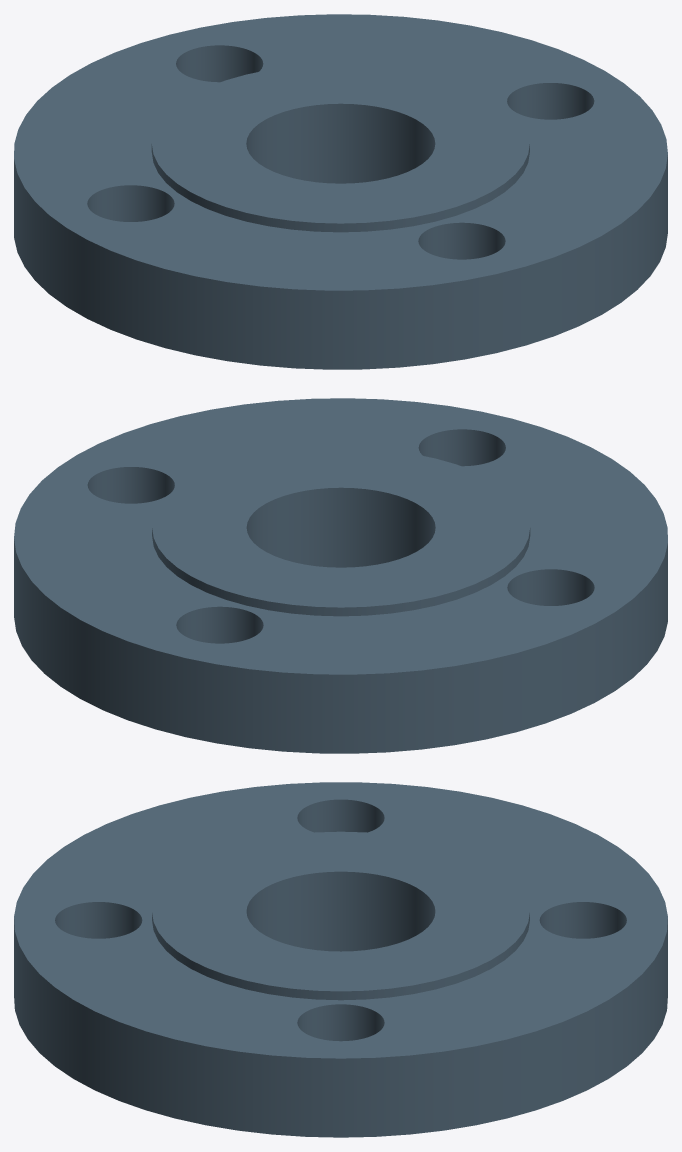
The model's file is flanec-ploskij-DN32-PN25.glb.
3 views of the same model, one above another, from view 1: azimuth 30°, elevation 25°; view 2: azimuth 150°, elevation 25°; view 3: azimuth 270°, elevation 25° (orthographic).
Parts seen in each view (by area): view 1: Open CASCADE STEP translator 7.9 12; view 2: Open CASCADE STEP translator 7.9 12; view 3: Open CASCADE STEP translator 7.9 12.
Boxes of the visible parts, x1=… form: Open CASCADE STEP translator 7.9 12: x1=14, y1=14, x2=667, y2=369; Open CASCADE STEP translator 7.9 12: x1=14, y1=398, x2=667, y2=753; Open CASCADE STEP translator 7.9 12: x1=14, y1=782, x2=667, y2=1137.
Size of the model in its own units: 135 by 20 by 135.
